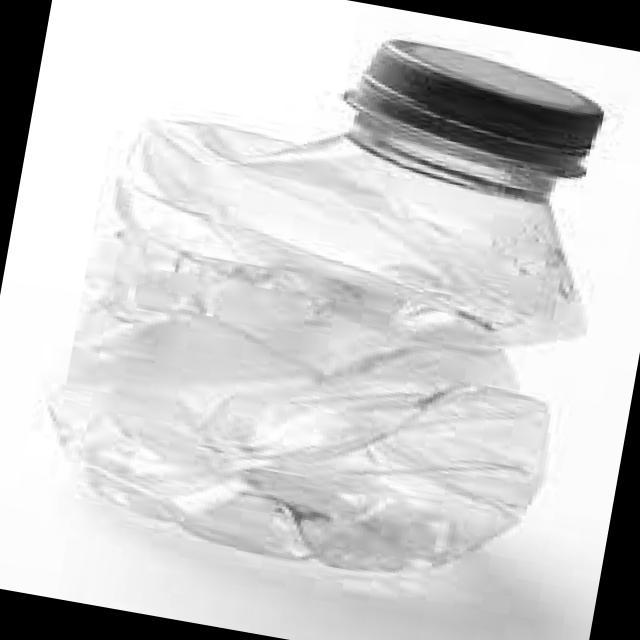defected: (6, 0, 636, 615)
